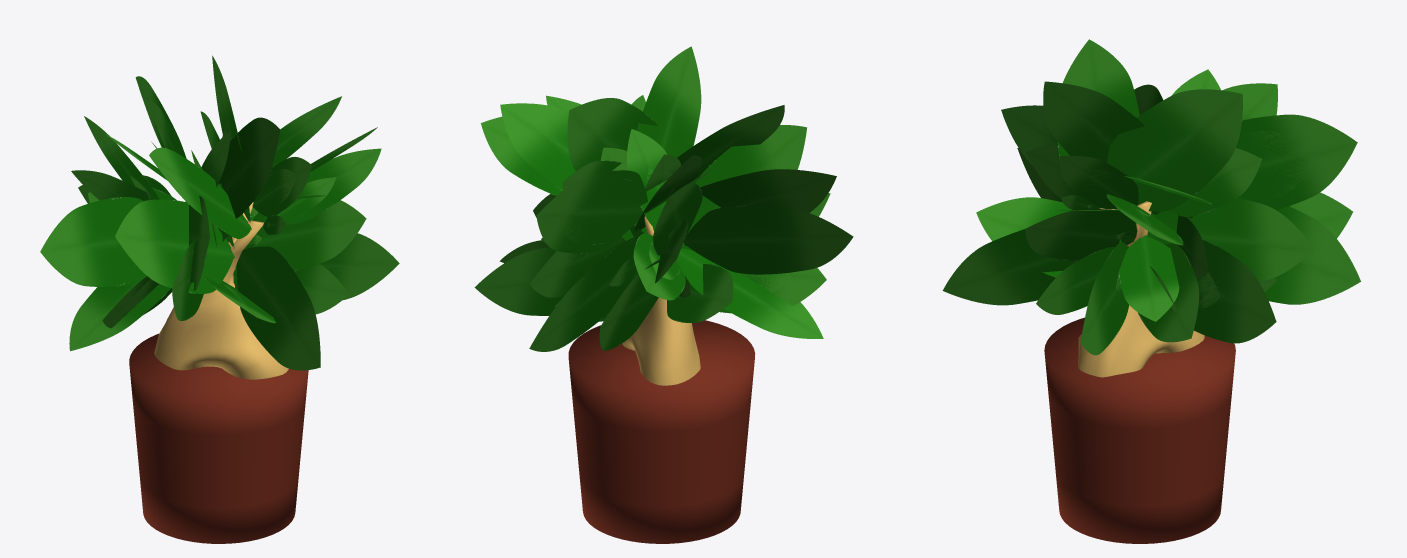
File: rootplant.fbx
3 views of the same model, side by side, from view 1: azimuth 30°, elevation 25°; view 2: azimuth 150°, elevation 25°; view 3: azimuth 270°, elevation 25° (orthographic). The views are drawn at different scales.
Visible parts, largest first — view 1: ThickRoot, Soil 1, ThickRoot|Plane|Dupli|5, ThickRoot|Plane|Dupli|67, ThickRoot|Plane|Dupli|65, ThickRoot|Plane|Dupli|10, ThickRoot|Plane|Dupli|64, ThickRoot|Plane|Dupli|85, ThickRoot|Plane|Dupli|43, ThickRoot|Plane|Dupli|17; view 2: ThickRoot, Soil 1, ThickRoot|Plane|Dupli|44, ThickRoot|Plane|Dupli|55, ThickRoot|Plane|Dupli|67, ThickRoot|Plane|Dupli|85, ThickRoot|Plane|Dupli|64, ThickRoot|Plane|Dupli|87, ThickRoot|Plane|Dupli|68, ThickRoot|Plane|Dupli|23, ThickRoot|Plane|Dupli|56, ThickRoot|Plane|Dupli|65 (+5 smaller); view 3: ThickRoot, Soil 1, ThickRoot|Plane|Dupli|74, ThickRoot|Plane|Dupli|71, ThickRoot|Plane|Dupli|58, ThickRoot|Plane|Dupli|52, ThickRoot|Plane|Dupli|31, ThickRoot|Plane|Dupli|77, ThickRoot|Plane|Dupli|, ThickRoot|Plane|Dupli|76, ThickRoot|Plane|Dupli|75, ThickRoot|Plane|Dupli|10.
Boxes of the visible parts, box(x1,y1,x2,y2) form: ThickRoot: box(40, 76, 381, 379); Soil 1: box(129, 333, 308, 543); ThickRoot|Plane|Dupli|5: box(319, 233, 399, 299); ThickRoot|Plane|Dupli|67: box(56, 216, 146, 285); ThickRoot|Plane|Dupli|65: box(84, 116, 159, 199); ThickRoot|Plane|Dupli|10: box(172, 242, 203, 320); ThickRoot|Plane|Dupli|64: box(190, 196, 209, 283); ThickRoot|Plane|Dupli|85: box(212, 55, 250, 222); ThickRoot|Plane|Dupli|43: box(92, 175, 148, 201); ThickRoot|Plane|Dupli|17: box(102, 276, 171, 328); ThickRoot: box(474, 46, 853, 385); Soil 1: box(568, 320, 755, 543); ThickRoot|Plane|Dupli|44: box(529, 237, 638, 351); ThickRoot|Plane|Dupli|55: box(700, 169, 836, 212); ThickRoot|Plane|Dupli|67: box(683, 206, 814, 272); ThickRoot|Plane|Dupli|85: box(567, 98, 657, 170); ThickRoot|Plane|Dupli|64: box(702, 125, 807, 210); ThickRoot|Plane|Dupli|87: box(677, 105, 784, 179); ThickRoot|Plane|Dupli|68: box(692, 205, 839, 252); ThickRoot|Plane|Dupli|23: box(599, 258, 660, 350); ThickRoot|Plane|Dupli|56: box(529, 237, 623, 297); ThickRoot|Plane|Dupli|65: box(653, 182, 702, 255); ThickRoot: box(942, 39, 1360, 377); Soil 1: box(1044, 317, 1235, 543); ThickRoot|Plane|Dupli|74: box(1236, 114, 1357, 209); ThickRoot|Plane|Dupli|71: box(1043, 81, 1144, 162); ThickRoot|Plane|Dupli|58: box(950, 229, 1077, 305); ThickRoot|Plane|Dupli|52: box(1025, 209, 1137, 260); ThickRoot|Plane|Dupli|31: box(1197, 240, 1276, 339); ThickRoot|Plane|Dupli|77: box(1060, 155, 1138, 209); ThickRoot|Plane|Dupli|: box(1036, 247, 1114, 314); ThickRoot|Plane|Dupli|76: box(1080, 169, 1138, 207); ThickRoot|Plane|Dupli|75: box(1238, 150, 1317, 203); ThickRoot|Plane|Dupli|10: box(1017, 148, 1062, 202).
Bounding box in the file's own units: 484 × 603 × 525.
